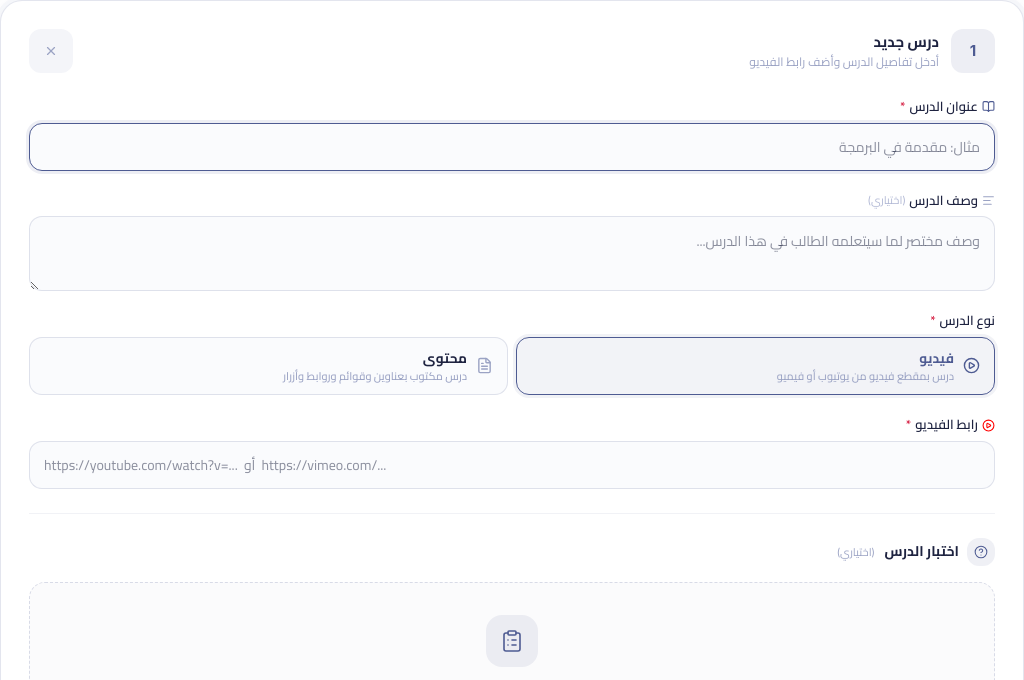
Test: LessonForm video input › says the link names no video when the platform is right but the link is not
This screenshot has width=1024, height=680.
Type "https://vimeo.com/notanumber" into the field with placeholder "https://youtube.com/watch?v=... أو https://vimeo.com/...".
click(512, 465); type("https://vimeo.com/notanumber")  # box [29,441,995,489]
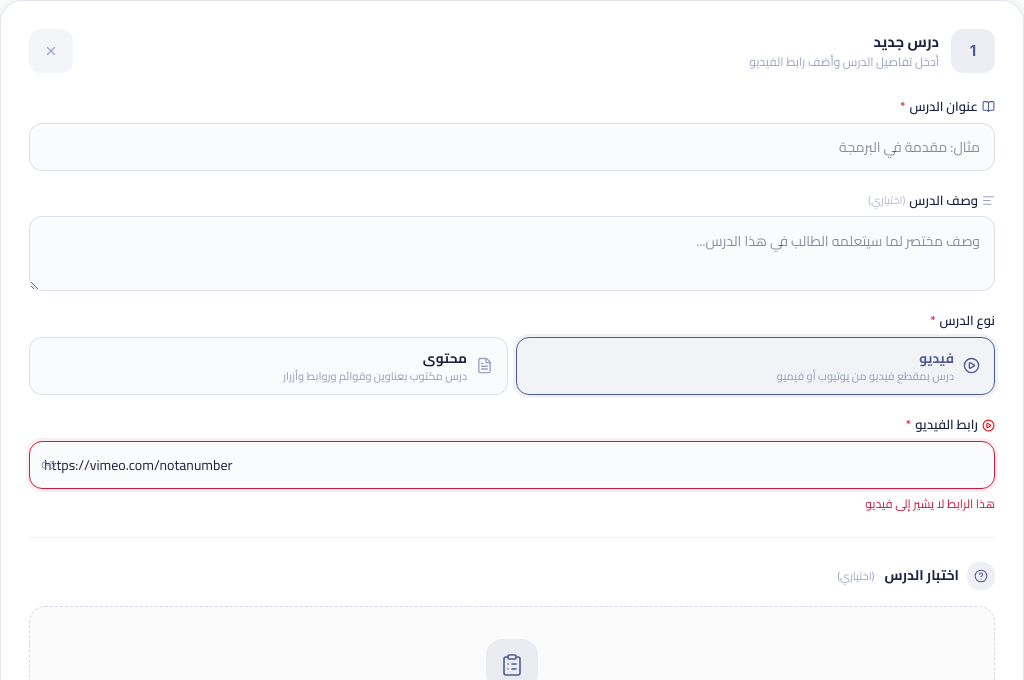
Expected: the text "هذا الرابط لا يشير إلى فيديو" is shown, [865,492,995,515]
